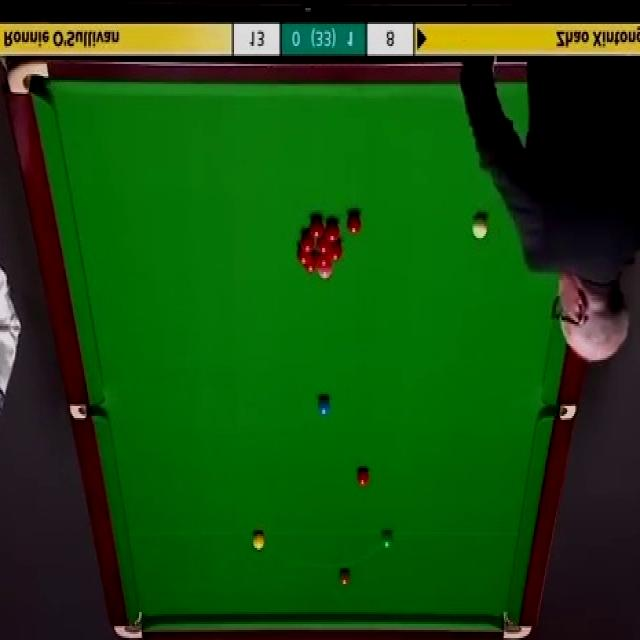blue-ball: (316, 394, 331, 418)
brown-ball: (338, 566, 351, 586)
green-ball: (379, 528, 395, 549)
pink-ball: (317, 268, 333, 280)
red-ball: (324, 217, 340, 241), (356, 465, 372, 487), (328, 240, 343, 262), (347, 212, 361, 234), (295, 248, 312, 266), (316, 236, 332, 254), (310, 217, 323, 239), (317, 252, 332, 270), (304, 255, 319, 273), (301, 233, 314, 252)
white-ball: (471, 215, 489, 240)
yellow-ball: (252, 530, 265, 550)
